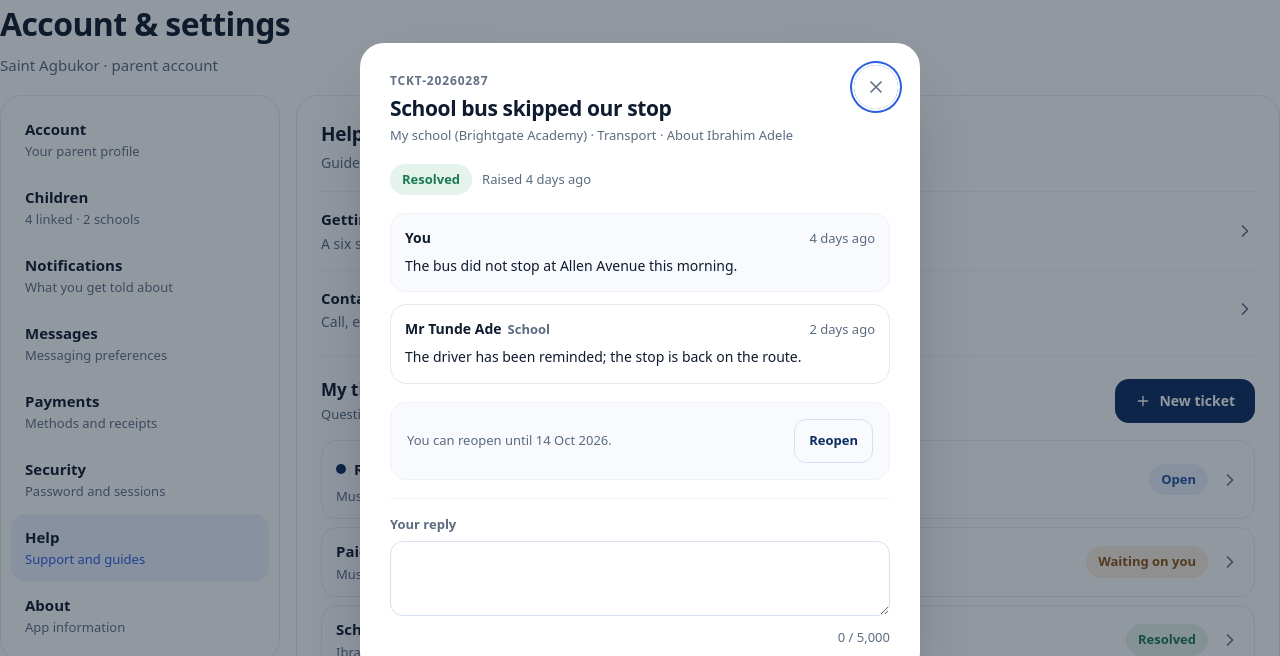
Scenario: Ticket thread (fixtures) › shows the 409 when the server says the window has passed
expect the list named "Messages" is shown: met, box [390,213,890,384]
Click the button "Reopen" at (834, 441), box [794,419,873,463]
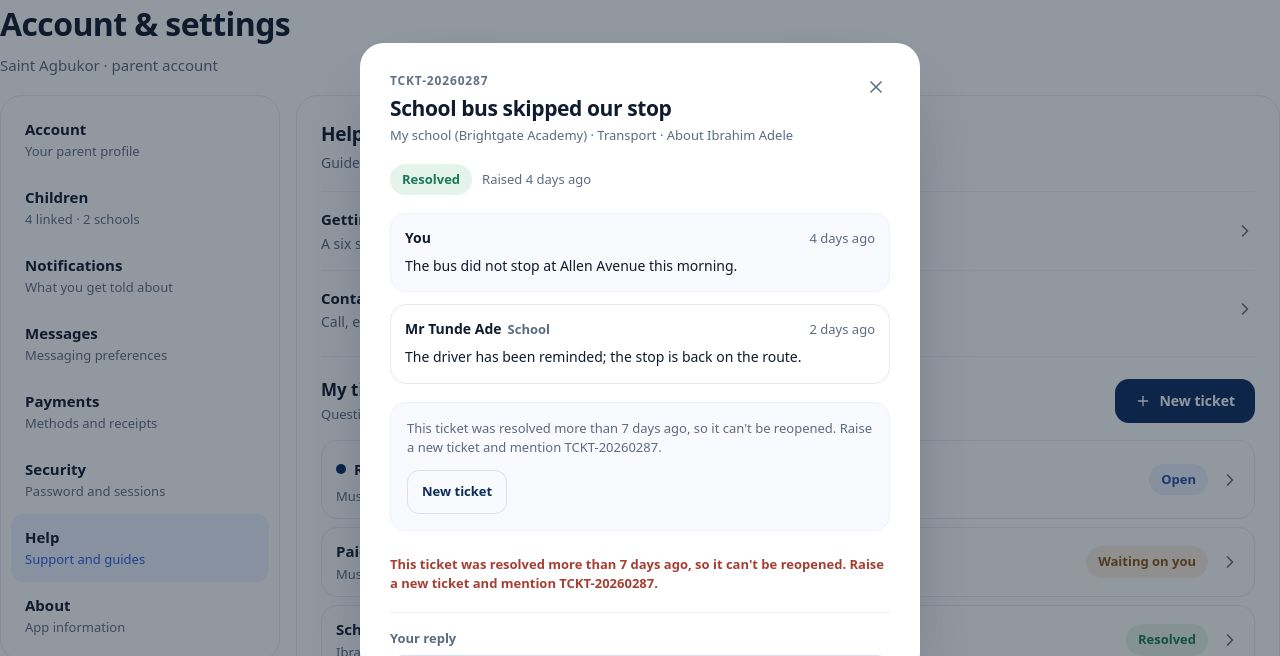
expect the message shows "This ticket was resolved more than 7 days ago, so it can't be reopened. Raise a new ticket and mention TCKT-20260287.": met, box [390,555,884,592]
